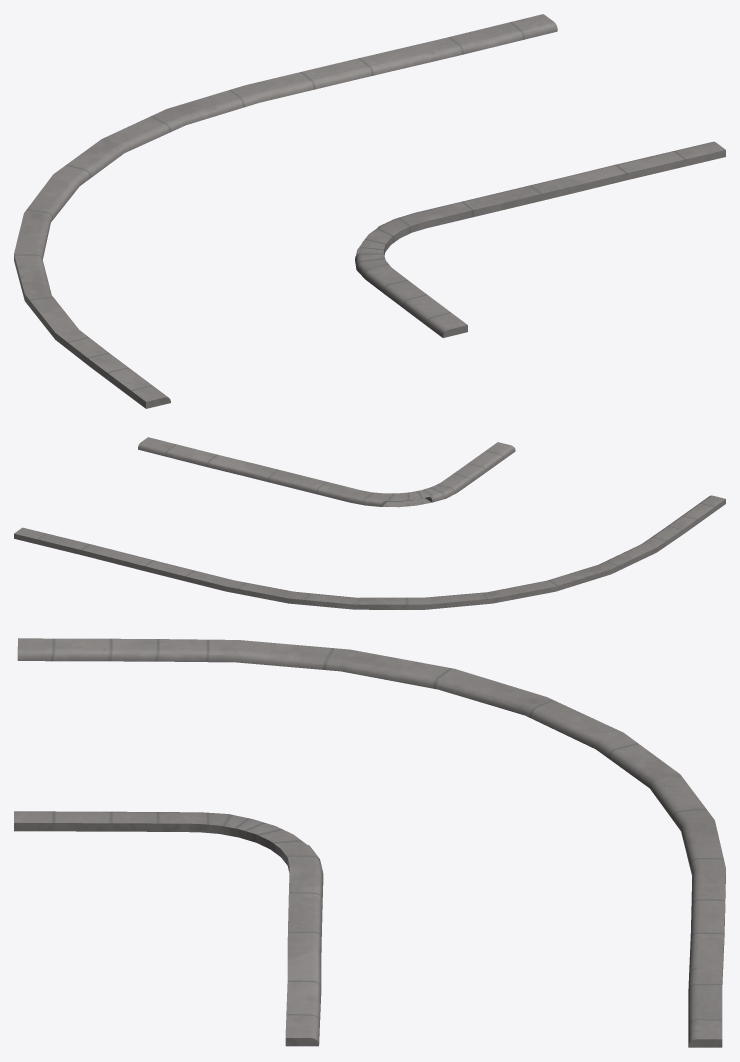
File: SideWalks_Curved_Sewer.fbx
3 views of the same model, one above another, from view 1: azimuth 30°, elevation 25°; view 2: azimuth 150°, elevation 25°; view 3: azimuth 270°, elevation 25° (orthographic). The views are drawn at different scales.
Visible parts, largest first — view 1: SideWalk_Road_Curve_Sewer; view 2: SideWalk_Road_Curve_Sewer; view 3: SideWalk_Road_Curve_Sewer.
Boxes of the visible parts, <box> form: SideWalk_Road_Curve_Sewer: <box>14,14,725,408</box>; SideWalk_Road_Curve_Sewer: <box>14,437,725,609</box>; SideWalk_Road_Curve_Sewer: <box>14,638,725,1047</box>.
Bounding box in the file's own units: 1231 × 924 × 11.97.
